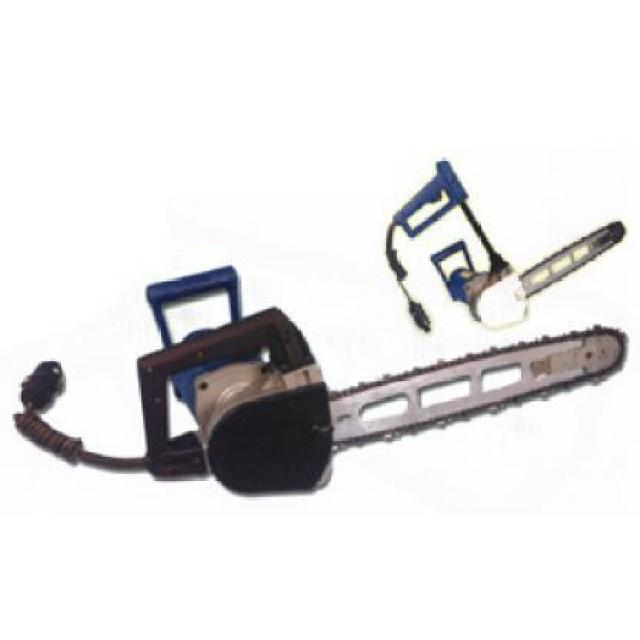Chainsaw: (15, 266, 634, 497), (386, 160, 628, 334)
